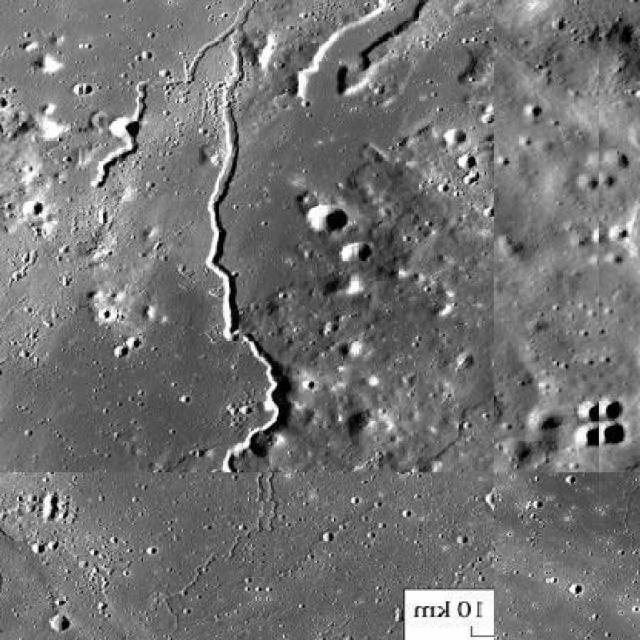crater: (201, 26, 294, 471), (88, 0, 286, 189), (161, 472, 267, 637), (611, 115, 640, 471), (586, 472, 640, 638)
